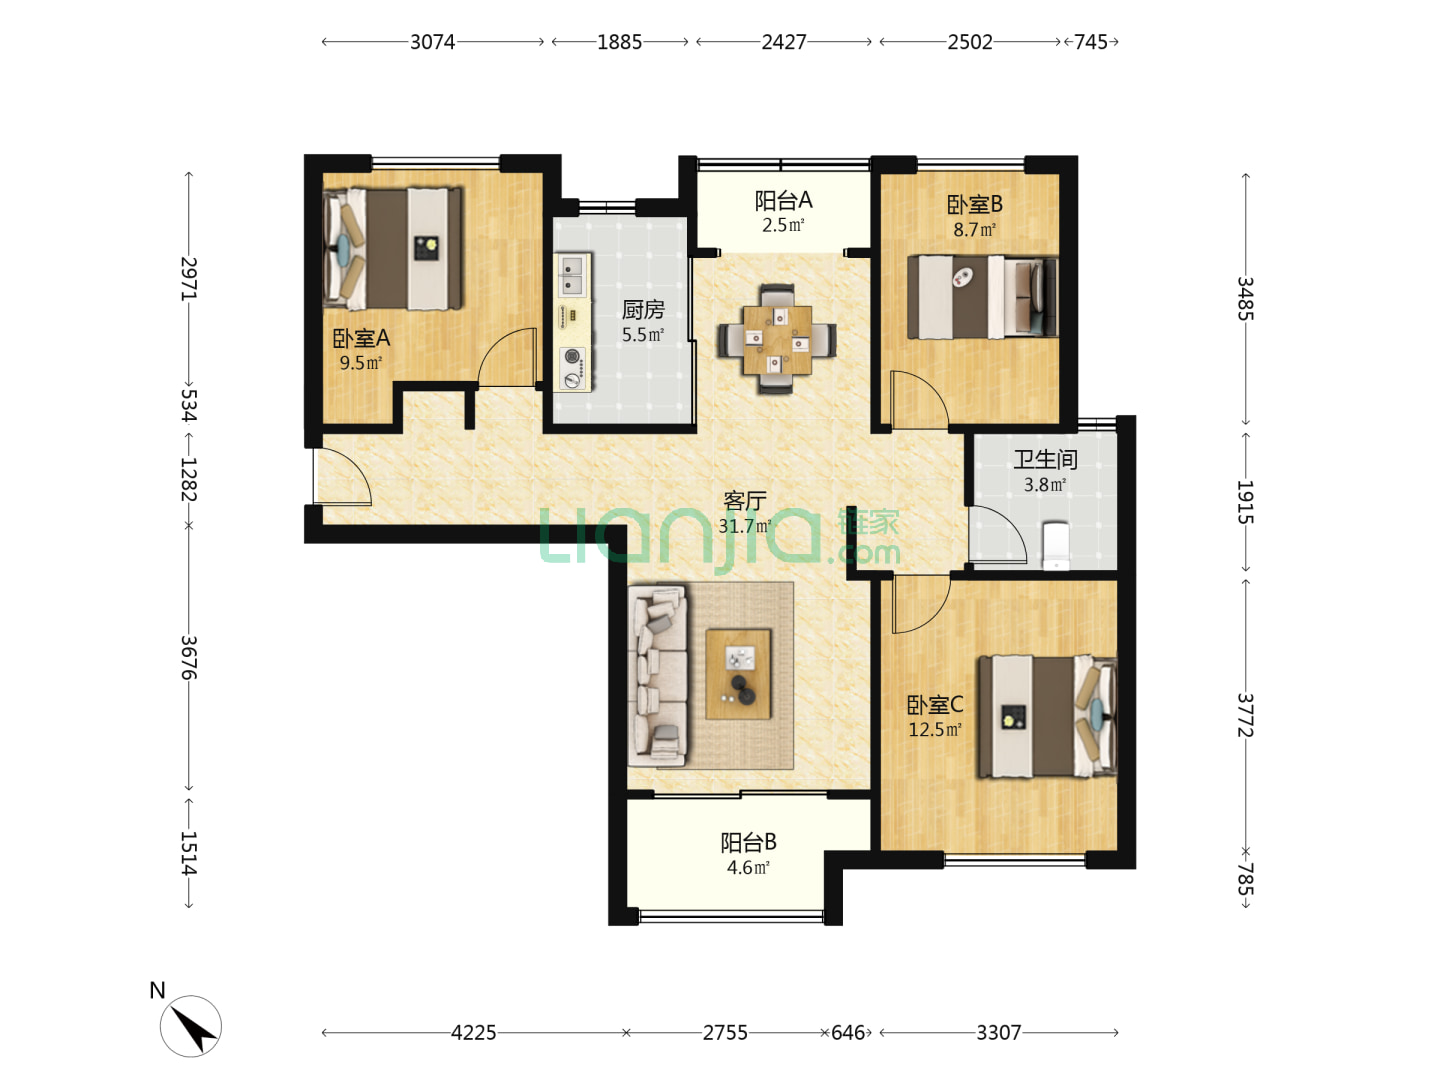DOOR(单开门): (472, 319, 541, 393), (887, 568, 954, 638), (962, 503, 1032, 567), (888, 366, 952, 434), (308, 446, 375, 511)
DOOR（移门）: (681, 252, 702, 427), (643, 785, 835, 801)
